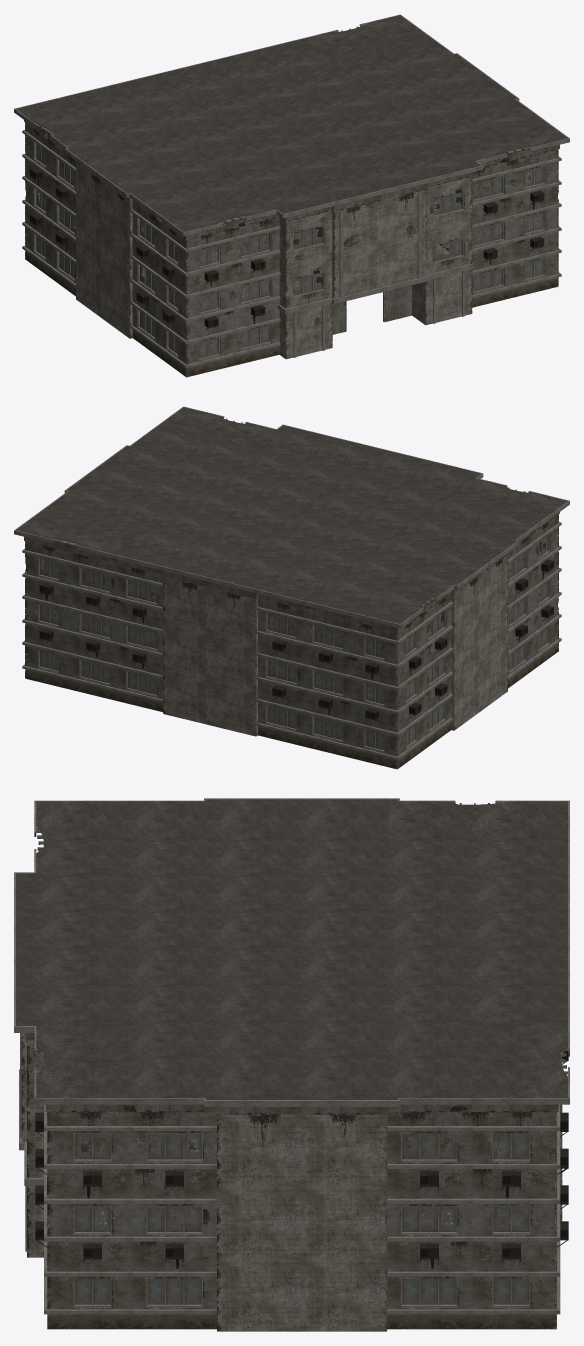
File: apartmentpre02.obj
The picture shows the model from 3 angles, top to bottom: view 1: azimuth 30°, elevation 25°; view 2: azimuth 150°, elevation 25°; view 3: azimuth 270°, elevation 25°; orthographic projection. The views are drawn at different scales.
Parts seen in each view (by area): view 1: ApartmentPre02:0, ApartmentPre02b:0, ApartmentPre02d:0; view 2: ApartmentPre02:0, ApartmentPre02b:0, ApartmentPre02d:0; view 3: ApartmentPre02:0, ApartmentPre02b:0, ApartmentPre02d:0.
Part boxes in pixels (box(x1,y1,x2,y2)): ApartmentPre02:0: box(14, 14, 569, 376); ApartmentPre02b:0: box(36, 143, 543, 358); ApartmentPre02d:0: box(25, 19, 558, 377); ApartmentPre02:0: box(14, 406, 569, 769); ApartmentPre02b:0: box(40, 536, 547, 750); ApartmentPre02d:0: box(25, 412, 558, 769); ApartmentPre02:0: box(14, 798, 569, 1331); ApartmentPre02b:0: box(75, 1133, 529, 1304); ApartmentPre02d:0: box(21, 800, 569, 1330).
Bounding box in the file's own units: 216 × 78.58 × 168.
3 materials, 3 textured.
